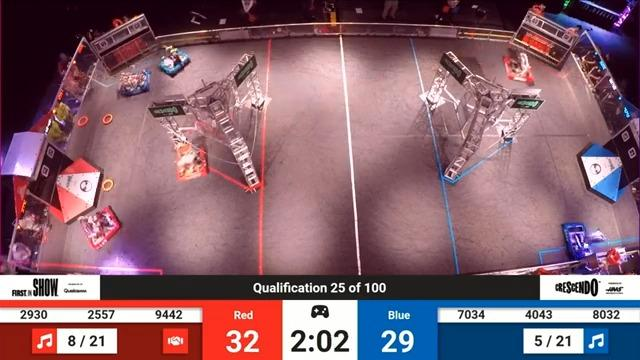robot: (80, 208, 123, 251), (558, 215, 599, 256), (167, 142, 208, 179), (502, 49, 538, 87), (156, 44, 191, 76), (116, 65, 152, 96)
